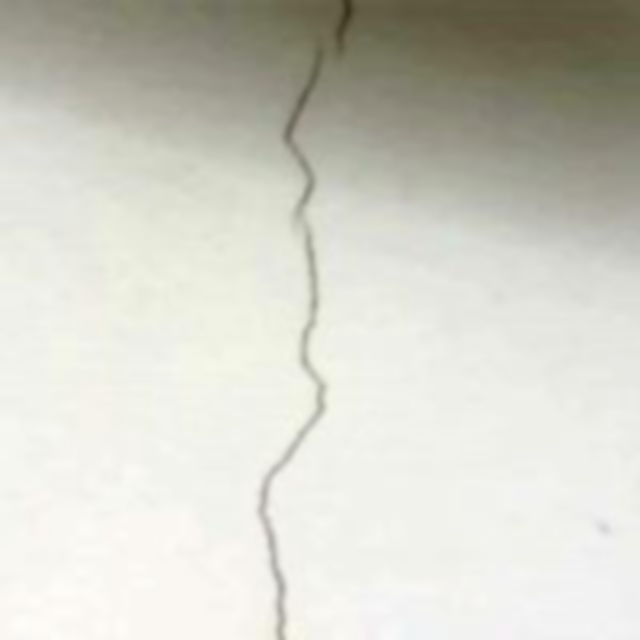SurfaceCrack: (190, 0, 414, 640)
